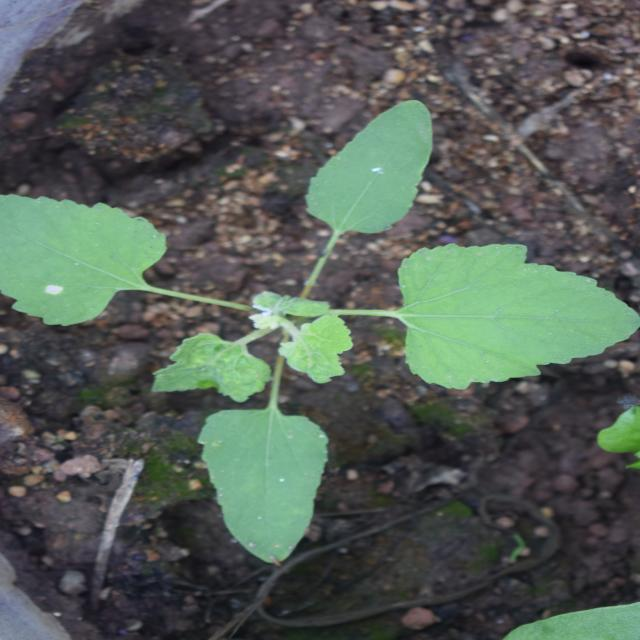cocklebur: (94, 23, 525, 607)
